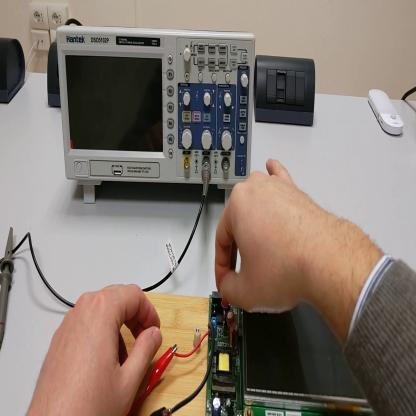hand: (33, 282, 162, 415), (215, 160, 318, 317)
low voltage board: (172, 292, 375, 416)
oscilloscope: (58, 23, 257, 207)
oscilloscope probe tip: (2, 226, 15, 348)
socket: (2, 36, 26, 106), (48, 40, 60, 107)
working area: (116, 293, 212, 413)
